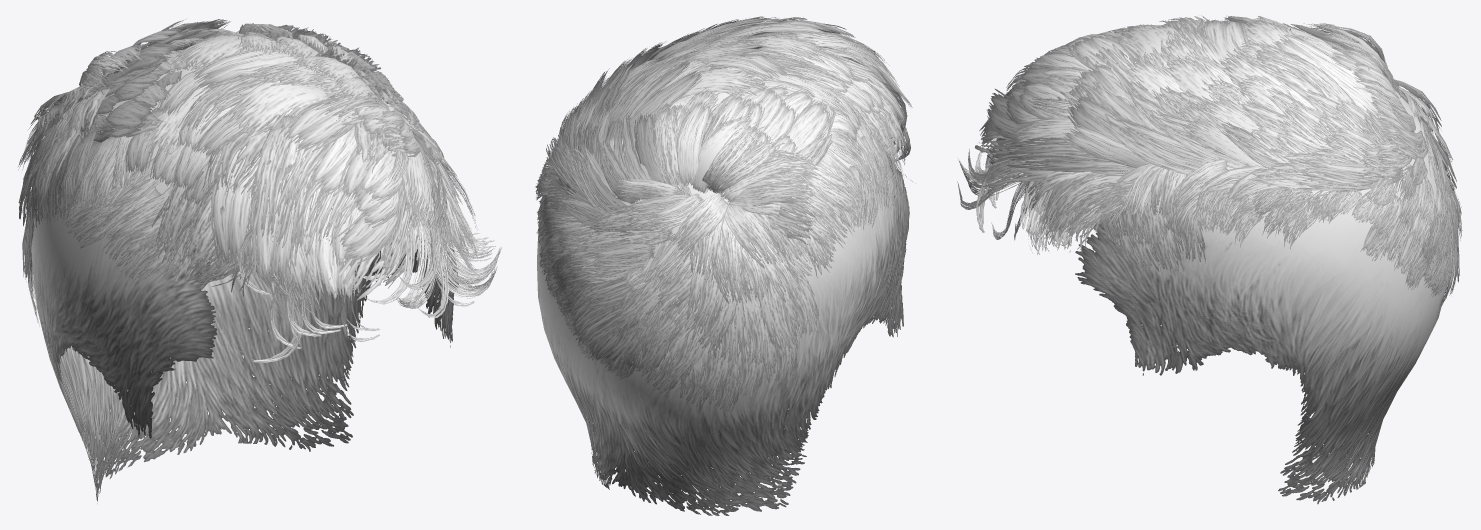
The model's file is hair_1080.glb.
3 views of the same model, side by side, from view 1: azimuth 30°, elevation 25°; view 2: azimuth 150°, elevation 25°; view 3: azimuth 270°, elevation 25° (orthographic). The views are drawn at different scales.
Parts seen in each view (by area): view 1: hair_cards, hair_cap; view 2: hair_cards, hair_cap; view 3: hair_cards, hair_cap.
Part boxes in pixels (bbox=[...]): hair_cards: bbox=[18, 19, 501, 362]; hair_cap: bbox=[31, 46, 458, 503]; hair_cards: bbox=[535, 16, 915, 412]; hair_cap: bbox=[537, 48, 909, 515]; hair_cards: bbox=[957, 15, 1462, 306]; hair_cap: bbox=[1075, 56, 1453, 504].
Size of the model in its own units: 0.17 by 0.2163 by 0.2326.
Materials: 2 (2 with a texture image).
